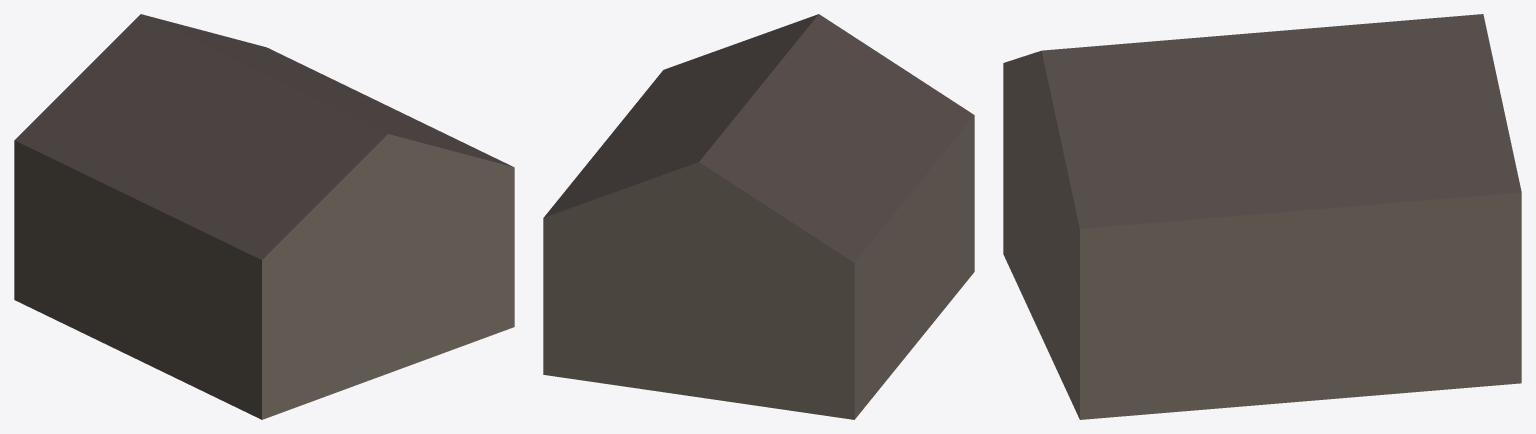
The picture shows the model from 3 angles, left to right: view 1: azimuth 30°, elevation 25°; view 2: azimuth 150°, elevation 25°; view 3: azimuth 270°, elevation 25°; orthographic projection. The views are drawn at different scales.
Visible parts, largest first — view 1: HP-w408450735; view 2: HP-w408450735; view 3: HP-w408450735.
Part boxes in pixels (x1,y1,x2,y2): HP-w408450735: (14,14,514,419); HP-w408450735: (543,14,974,419); HP-w408450735: (1003,14,1521,419).
Size of the model in its own units: 13.65 by 9 by 14.77.
